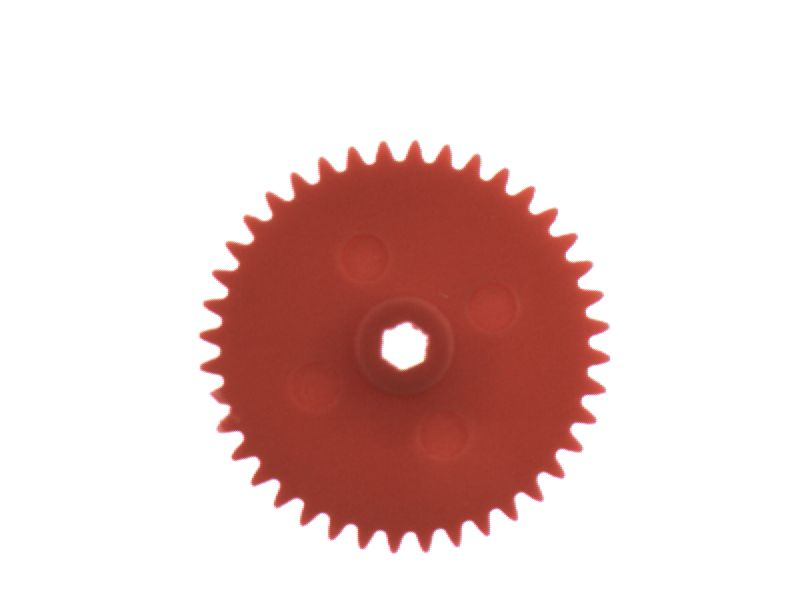defect_break: (190, 372, 241, 415)
